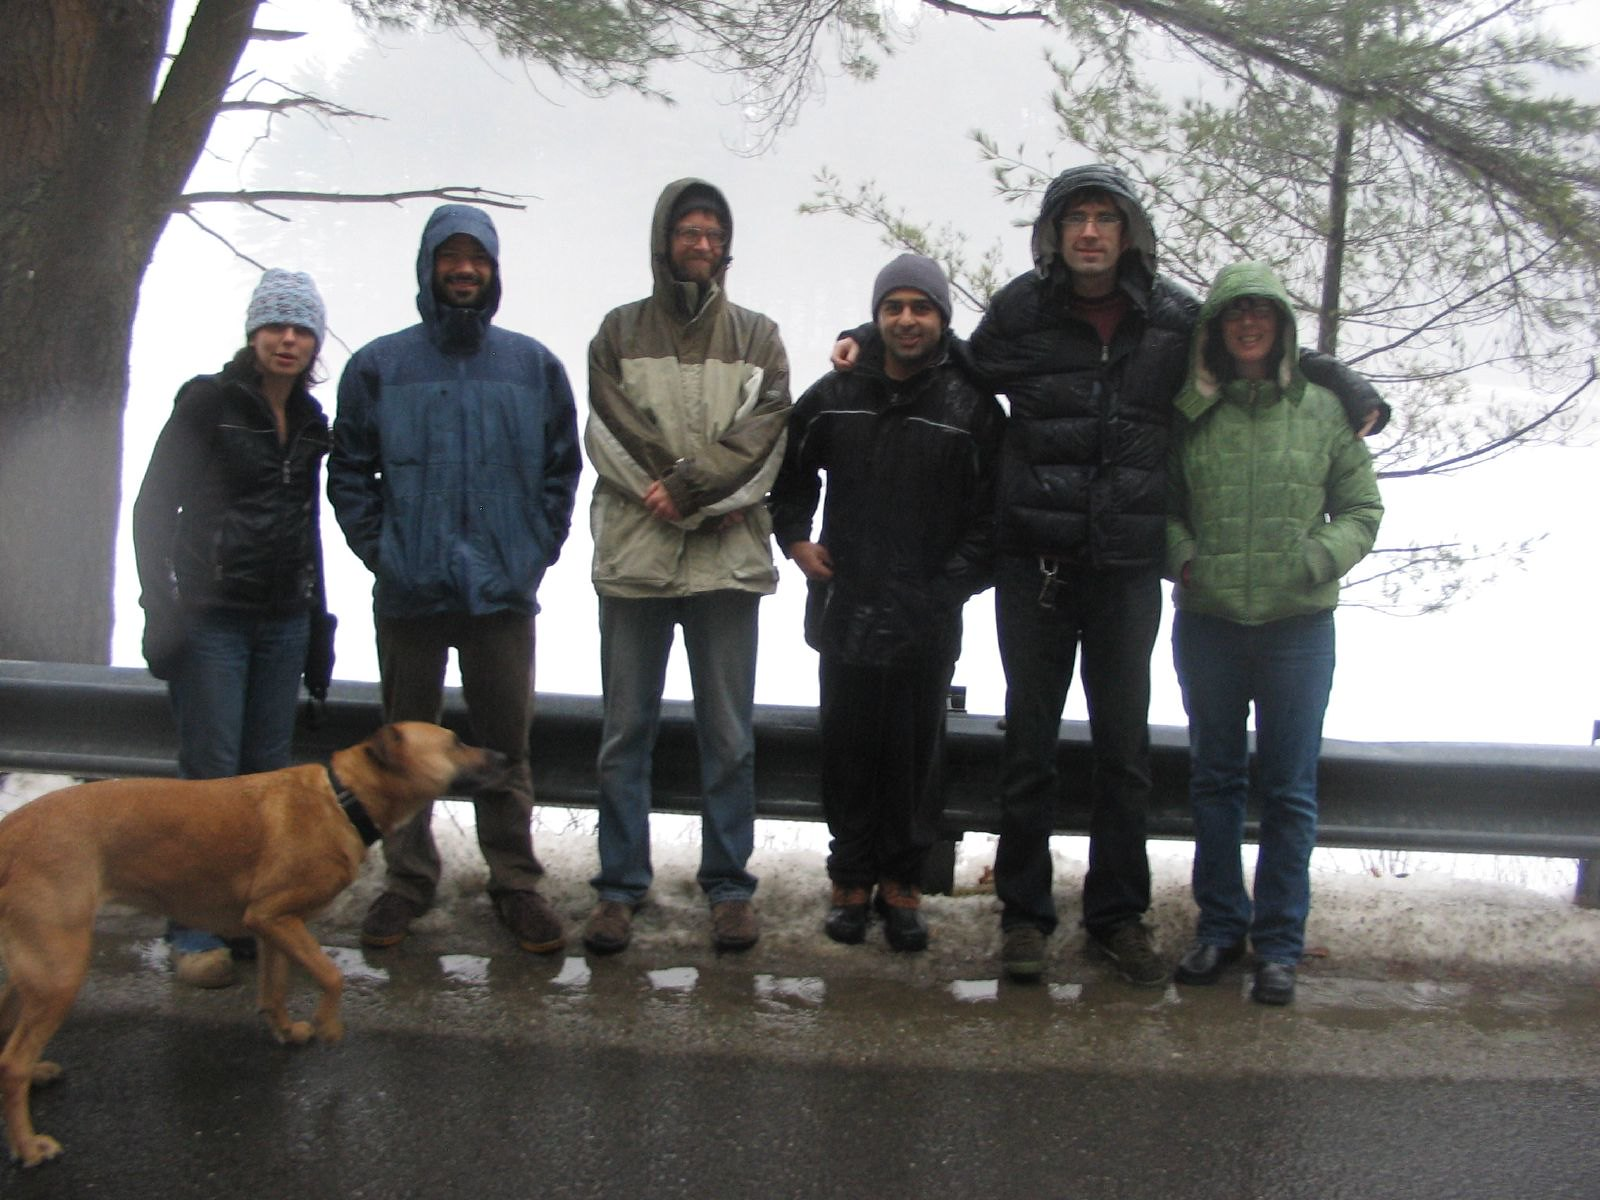Person: (534, 149, 815, 987), (948, 157, 1203, 1006), (1158, 244, 1388, 1006), (368, 206, 586, 961), (801, 248, 996, 955), (138, 240, 378, 777)
